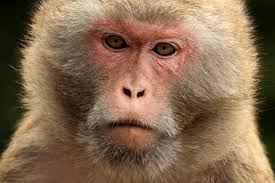monkey: (34, 4, 263, 183)
